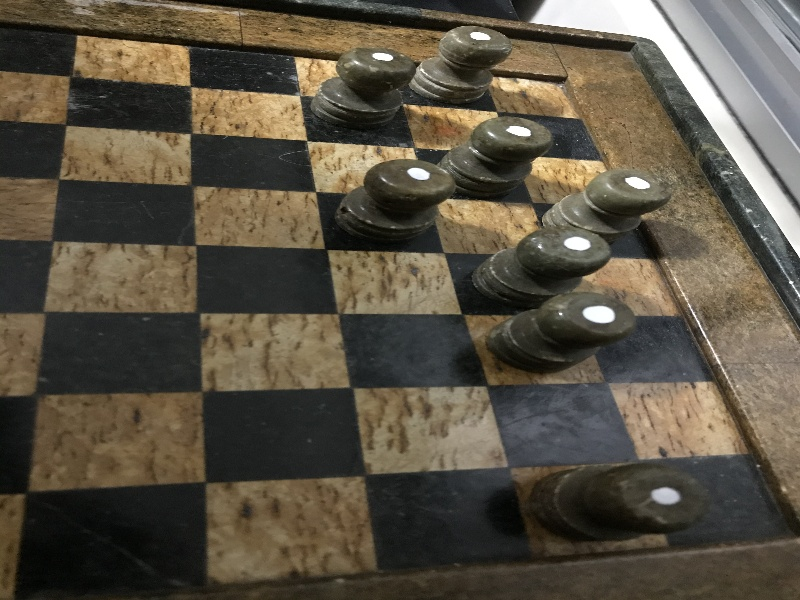WhitePawn: (533, 464, 704, 539), (485, 292, 637, 372), (475, 227, 612, 301), (336, 159, 455, 241), (543, 168, 671, 244), (438, 116, 554, 194), (312, 48, 415, 127), (410, 25, 511, 101)
